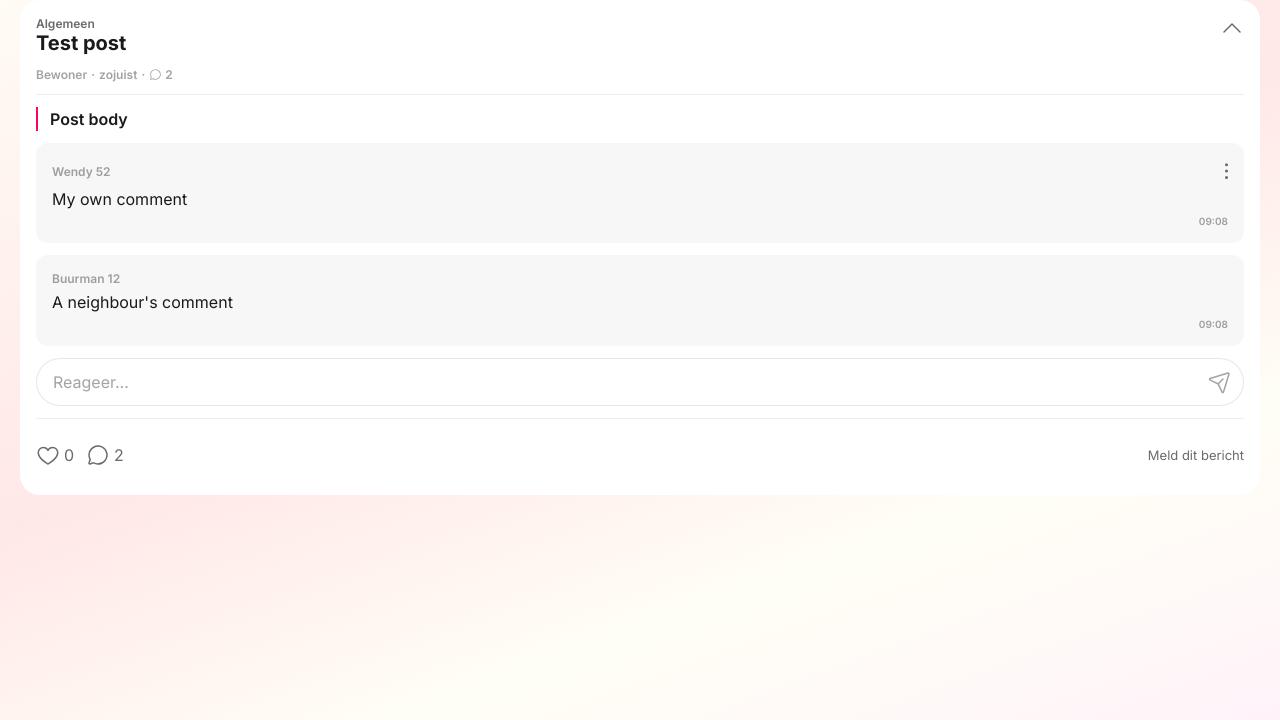
Test: CommentItem OverflowMenu › closes the menu when tapping outside it
Expected: the text "My own comment" is shown, [52,189,187,209]
Click the button named "Meer opties" at point(1206, 161), box [1184,139,1228,183]
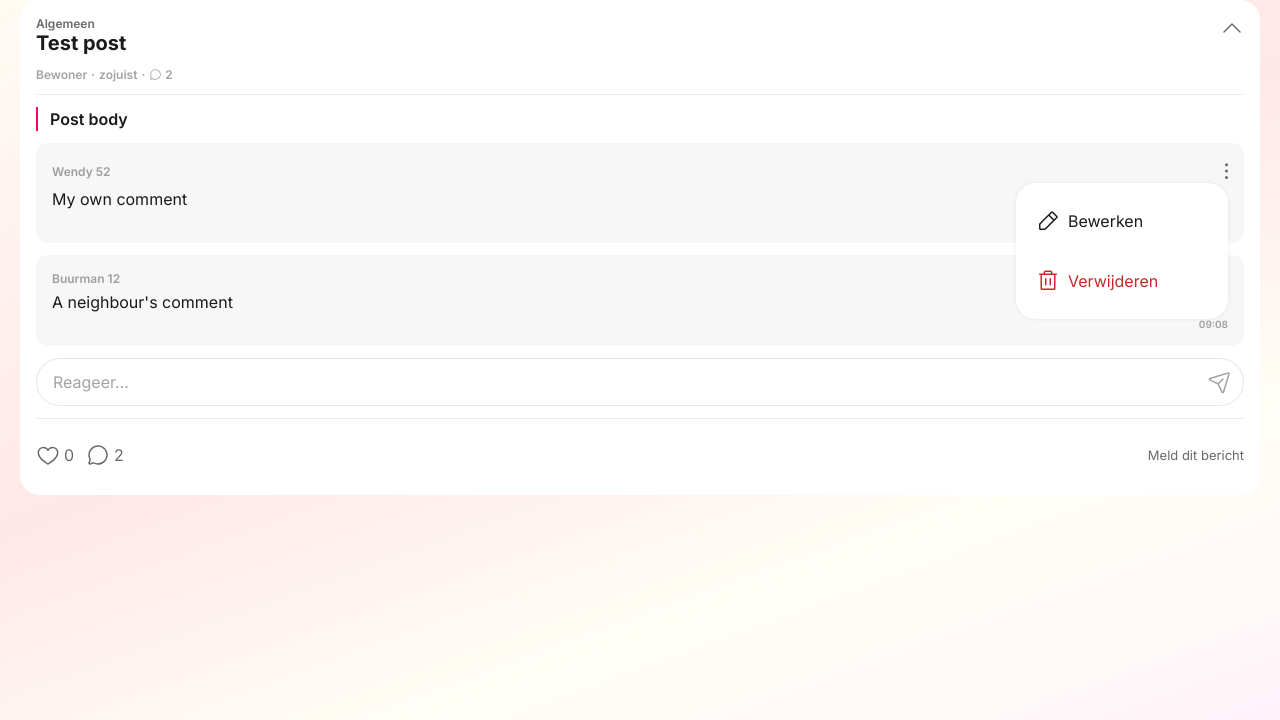
Result: the button "Bewerken" is shown at [1036,199,1208,243]
Click the element with test id "overflow-menu-backdrop" at point(640, 360), box [0,0,1279,719]
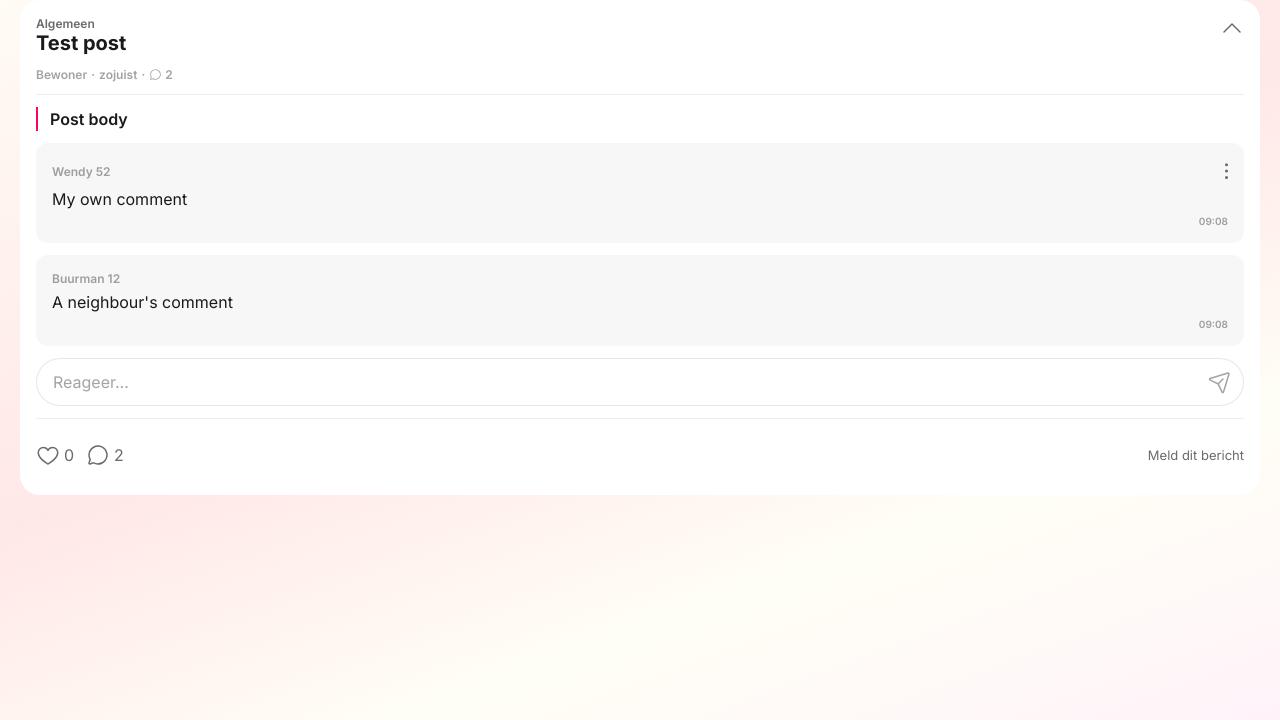
Result: the button "Bewerken" is gone
